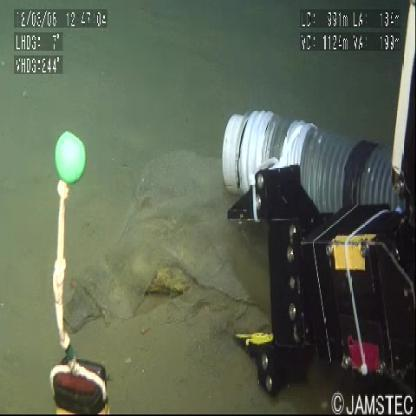Rác: (64, 151, 272, 339)
